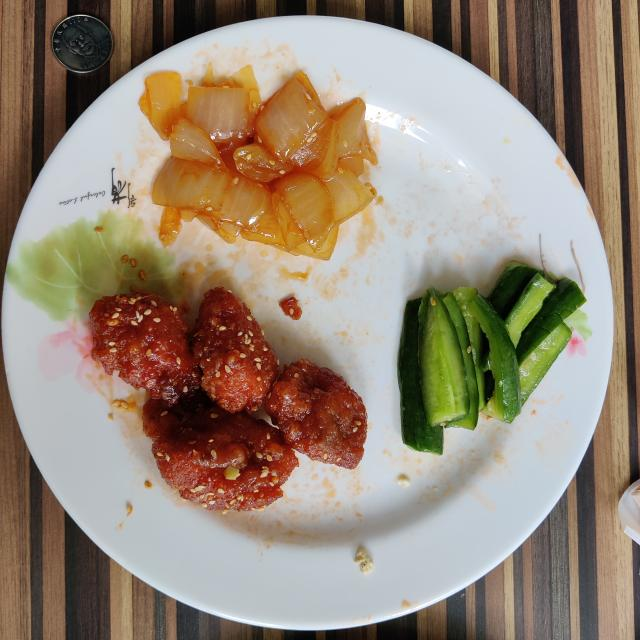coin: (51, 15, 112, 74)
cucumber: (398, 261, 586, 454)
